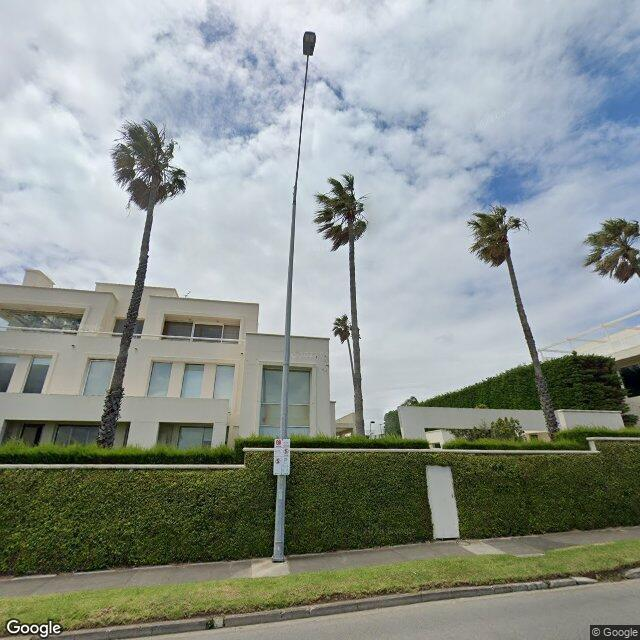steel-pole: (272, 203, 296, 562)
streetlight: (294, 30, 316, 205)
